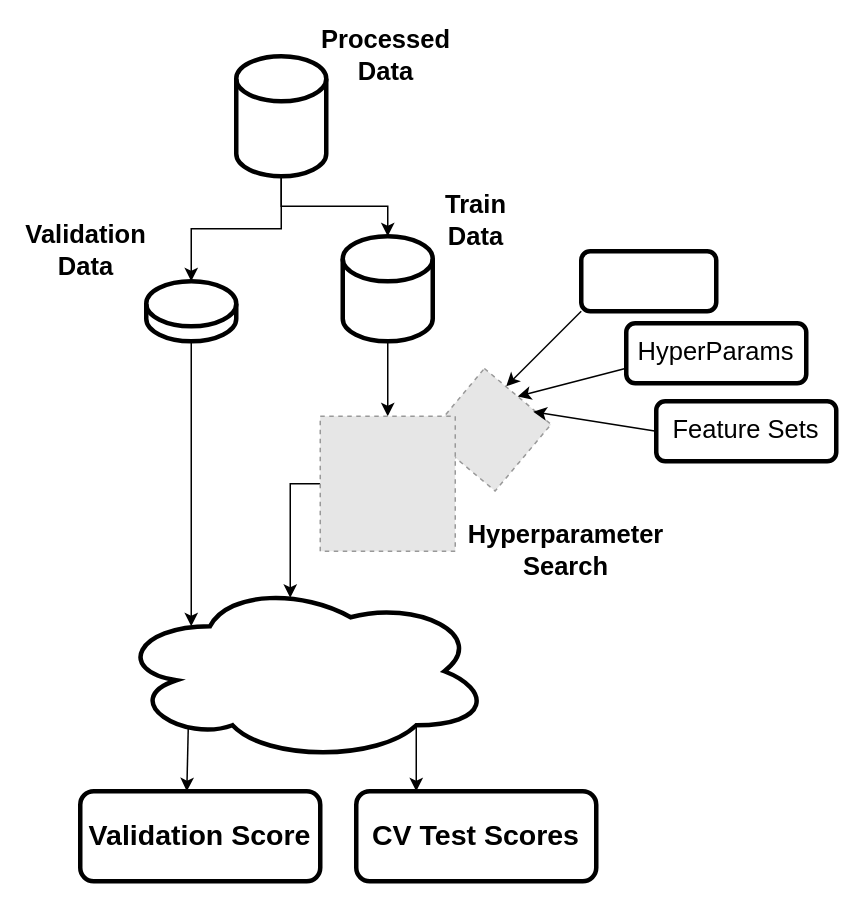
Some shapes in this 864 by 909 pixel diagram are drawn without their labels. Grey dashed boxes stand in for pictures. Here are the shapes that lost their labels. From the top down, the centre of each, then its label:
the point at 648,280: Models
the point at 303,670: Best Model: Based on CV scores
